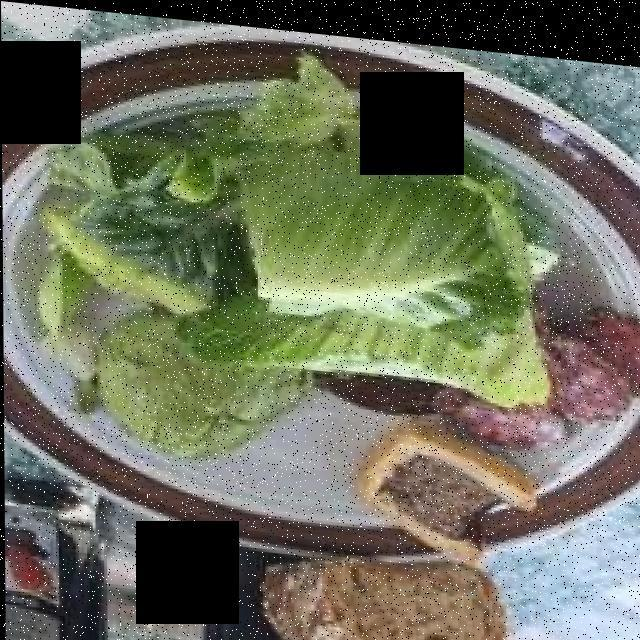avocado: (102, 292, 309, 462)
bread: (247, 548, 516, 640)
salad: (12, 64, 549, 392)
salami: (446, 283, 639, 434)
